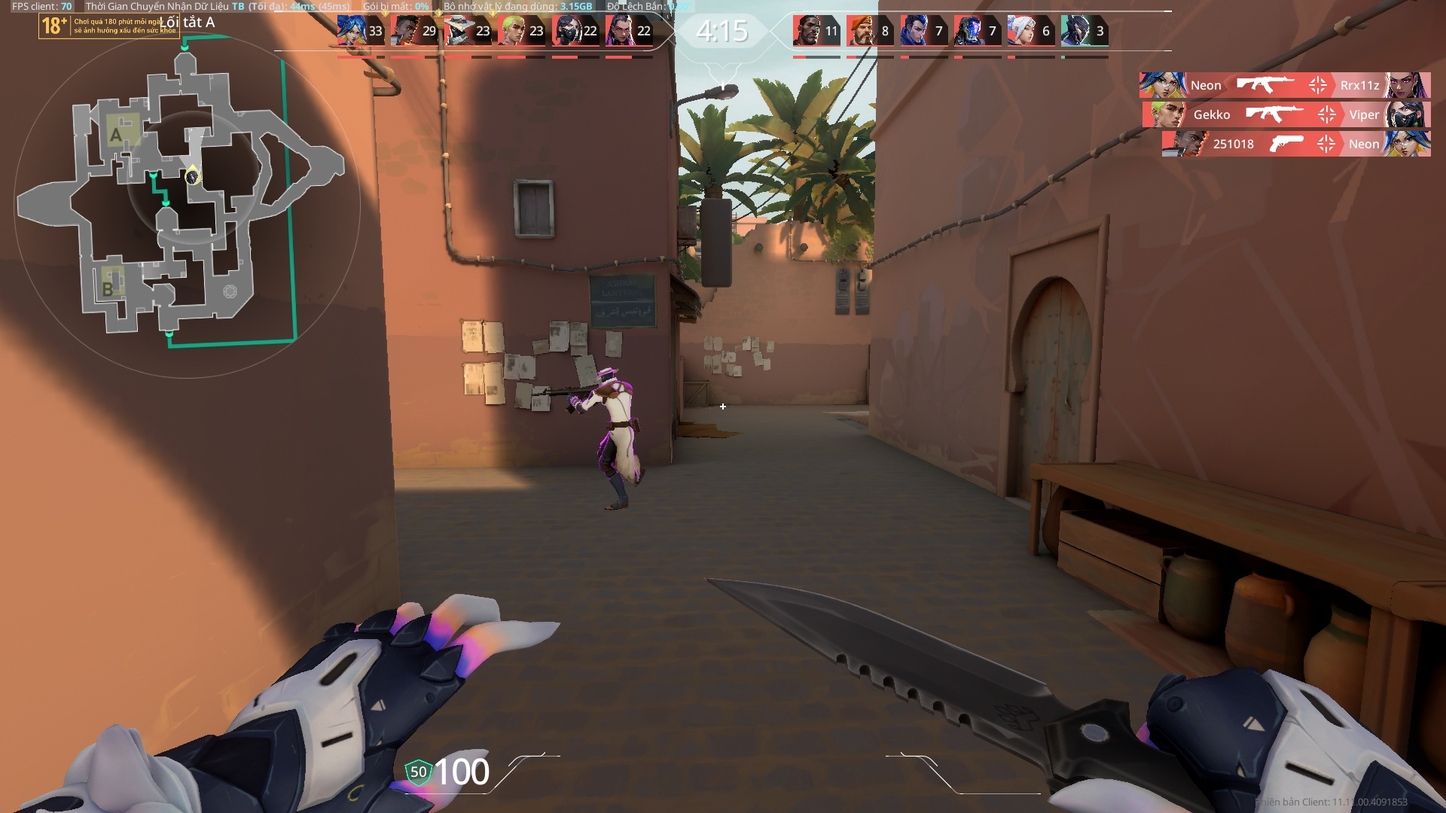body: (592, 379, 639, 433)
head: (596, 364, 620, 384)
